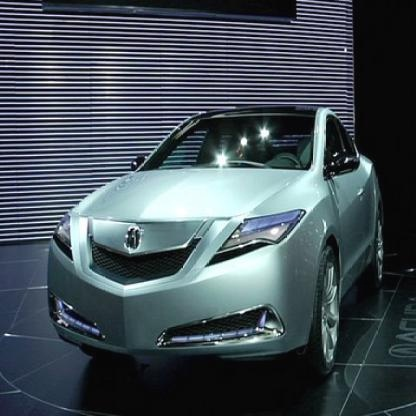Vehicle: (48, 106, 386, 378)
